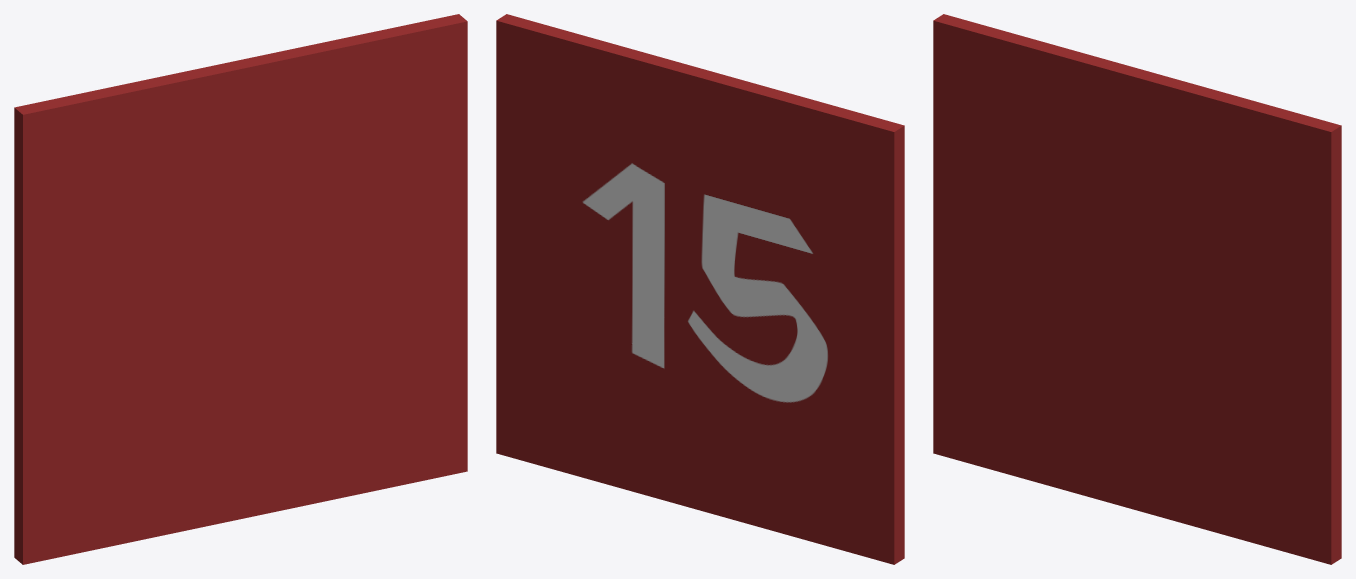
File: flap14.glb
The picture shows the model from 3 angles, left to right: view 1: azimuth 30°, elevation 25°; view 2: azimuth 150°, elevation 25°; view 3: azimuth 330°, elevation 25°; orthographic projection. The views are drawn at different scales.
Parts seen in each view (by area): view 1: flap.014; view 2: flap.014; view 3: flap.014.
Boxes of the visible parts, x1,y1,x2,y2 form: flap.014: (14,14,467,564); flap.014: (496,14,904,564); flap.014: (933,14,1341,564).
Size of the model in its own units: 0.2501 by 0.25 by 0.0253.
1 material, 1 textured.
